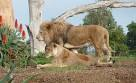lion: (37, 21, 117, 56), (40, 40, 111, 68)
